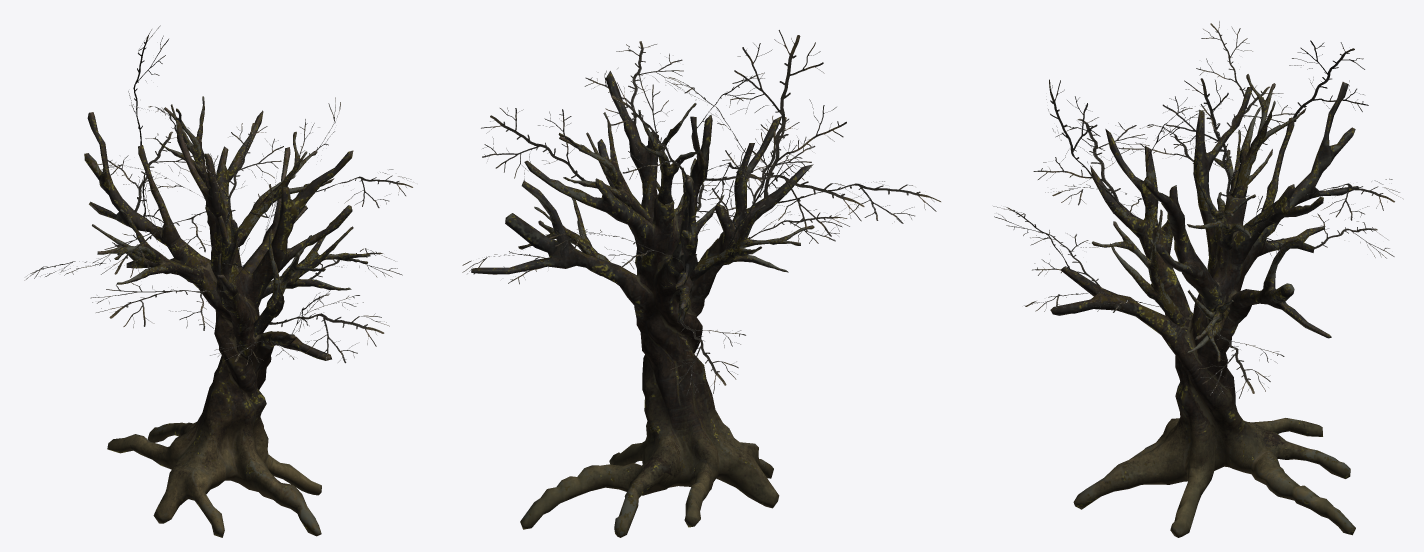
The model's file is tree.glb.
3 views of the same model, side by side, from view 1: azimuth 30°, elevation 25°; view 2: azimuth 150°, elevation 25°; view 3: azimuth 270°, elevation 25° (orthographic). The views are drawn at different scales.
Visible parts, largest first — view 1: tree2, leaves; view 2: tree2, leaves; view 3: tree2, leaves.
Boxes of the visible parts, x1=… form: tree2: x1=84, y1=96, x2=370, y2=537; leaves: x1=24, y1=25, x2=412, y2=365; tree2: x1=471, y1=71, x2=814, y2=537; leaves: x1=462, y1=30, x2=940, y2=395; tree2: x1=1050, y1=74, x2=1358, y2=537; leaves: x1=993, y1=21, x2=1403, y2=398.
Bounding box in the file's own units: 490 × 526 × 440.
Materials: 2 (2 with a texture image).
